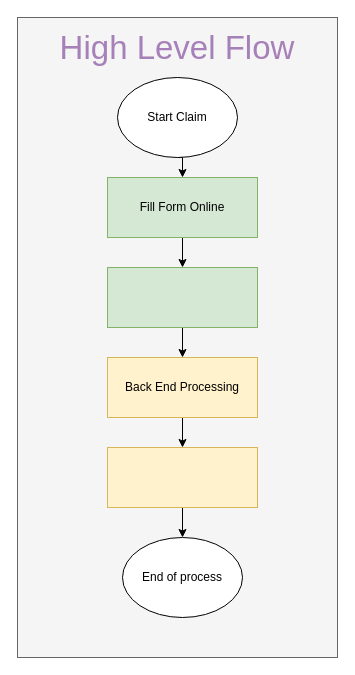
Image size: 355x675. Some labels were removed from this diagram. The shapes that lost their labels are listed below. From the top down, each one's centre as x and y in pixels, then its label:
[182,297]: Doctor Sign
[182,477]: Payment Processing
